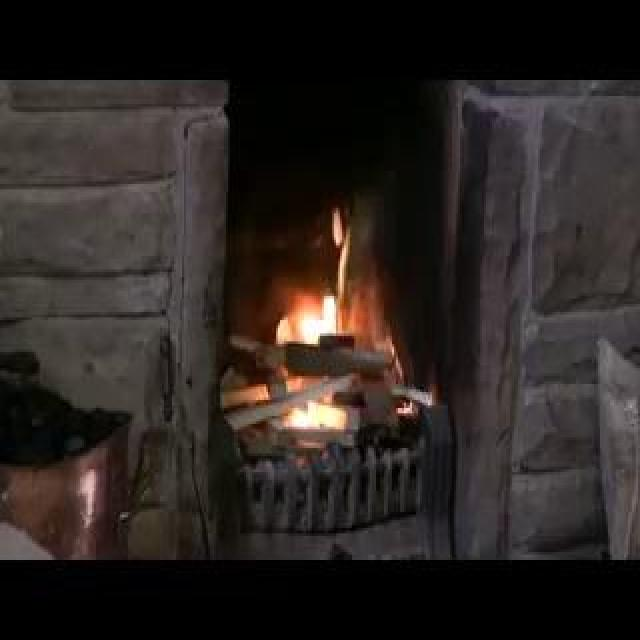Fire: (72, 130, 323, 284)
